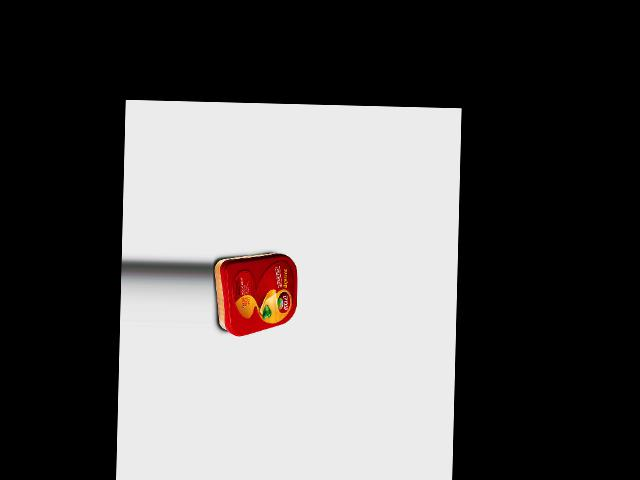cheese: (212, 251, 298, 337)
